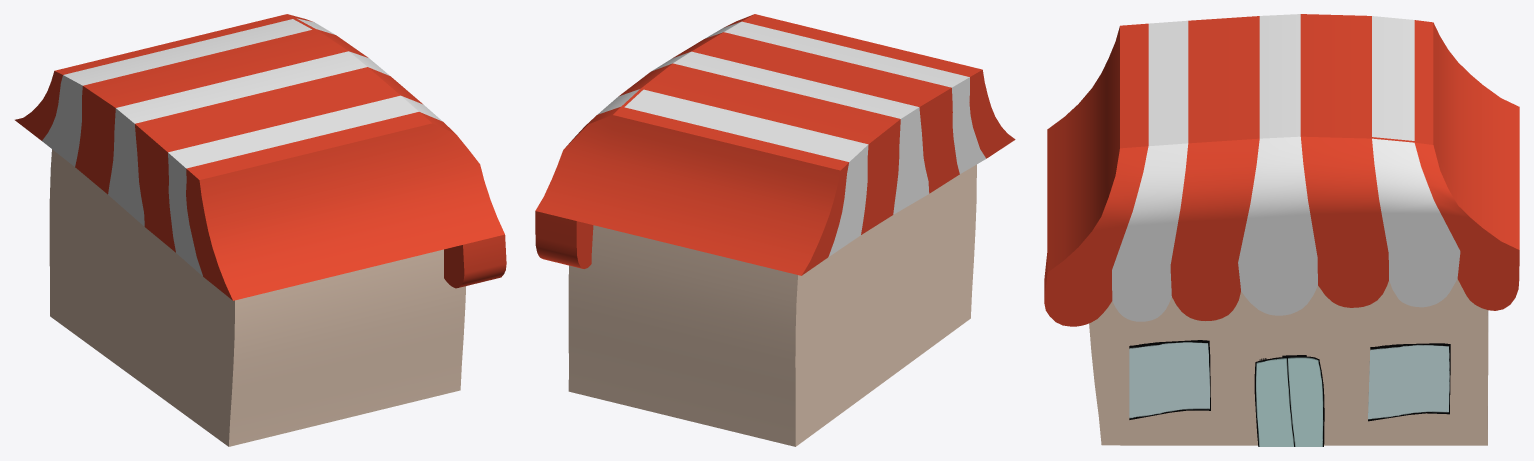
File: Building 7.fbx
3 renders of one model, left to right at view 1: azimuth 30°, elevation 25°; view 2: azimuth 150°, elevation 25°; view 3: azimuth 270°, elevation 25°, orthographic. The views are drawn at different scales.
Visible parts, largest first — view 1: Roof, Building 3; view 2: Roof, Building 3; view 3: Roof, Building 3, Plane, Plane.002, Plane.001.
Boxes of the visible parts, x1=… form: Roof: x1=15, y1=14, x2=506, y2=300; Building 3: x1=49, y1=149, x2=466, y2=446; Roof: x1=535, y1=14, x2=1015, y2=275; Building 3: x1=568, y1=164, x2=976, y2=446; Roof: x1=1044, y1=14, x2=1519, y2=326; Building 3: x1=1089, y1=279, x2=1488, y2=445; Plane: x1=1254, y1=355, x2=1324, y2=446; Plane.002: x1=1129, y1=340, x2=1210, y2=419; Plane.001: x1=1368, y1=343, x2=1450, y2=421.
Size of the model in its own units: 235 by 228 by 329.
